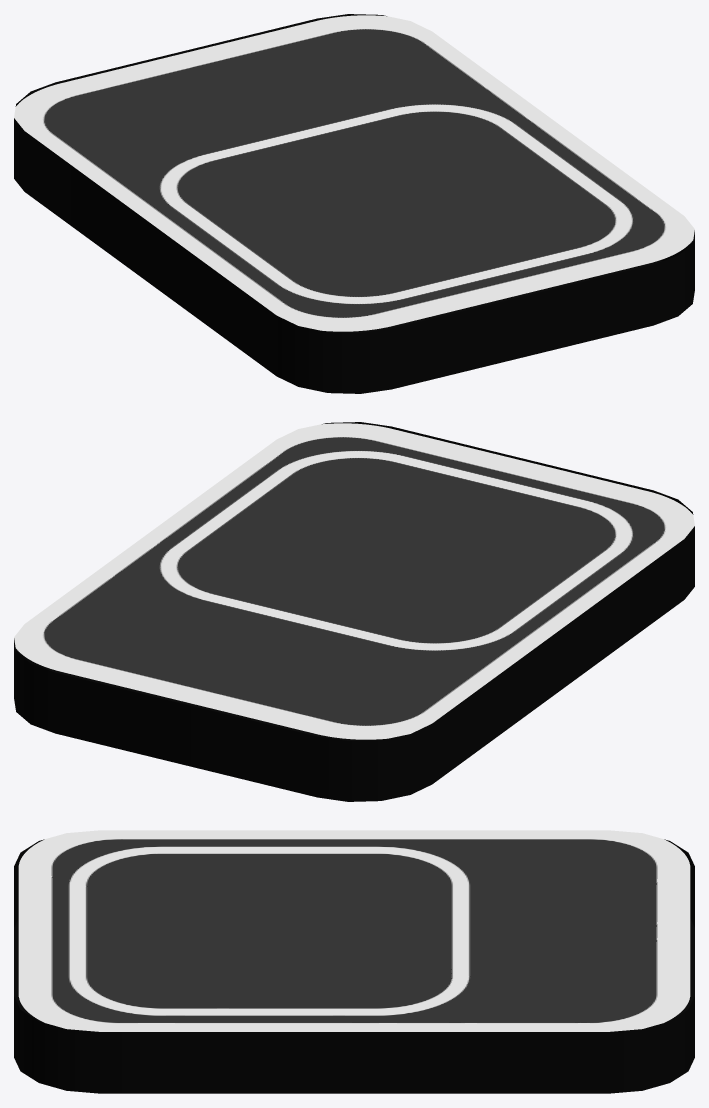
Rendered from FancyButton.fbx.
The picture shows the model from 3 angles, top to bottom: view 1: azimuth 30°, elevation 25°; view 2: azimuth 150°, elevation 25°; view 3: azimuth 270°, elevation 25°; orthographic projection.
Visible parts, largest first — view 1: FancyButton; view 2: FancyButton; view 3: FancyButton.
Boxes of the visible parts, x1,y1,x2,y2 form: FancyButton: (14, 14, 694, 393); FancyButton: (14, 422, 694, 801); FancyButton: (14, 830, 694, 1093).
Size of the model in its own units: 14 by 2 by 20.
